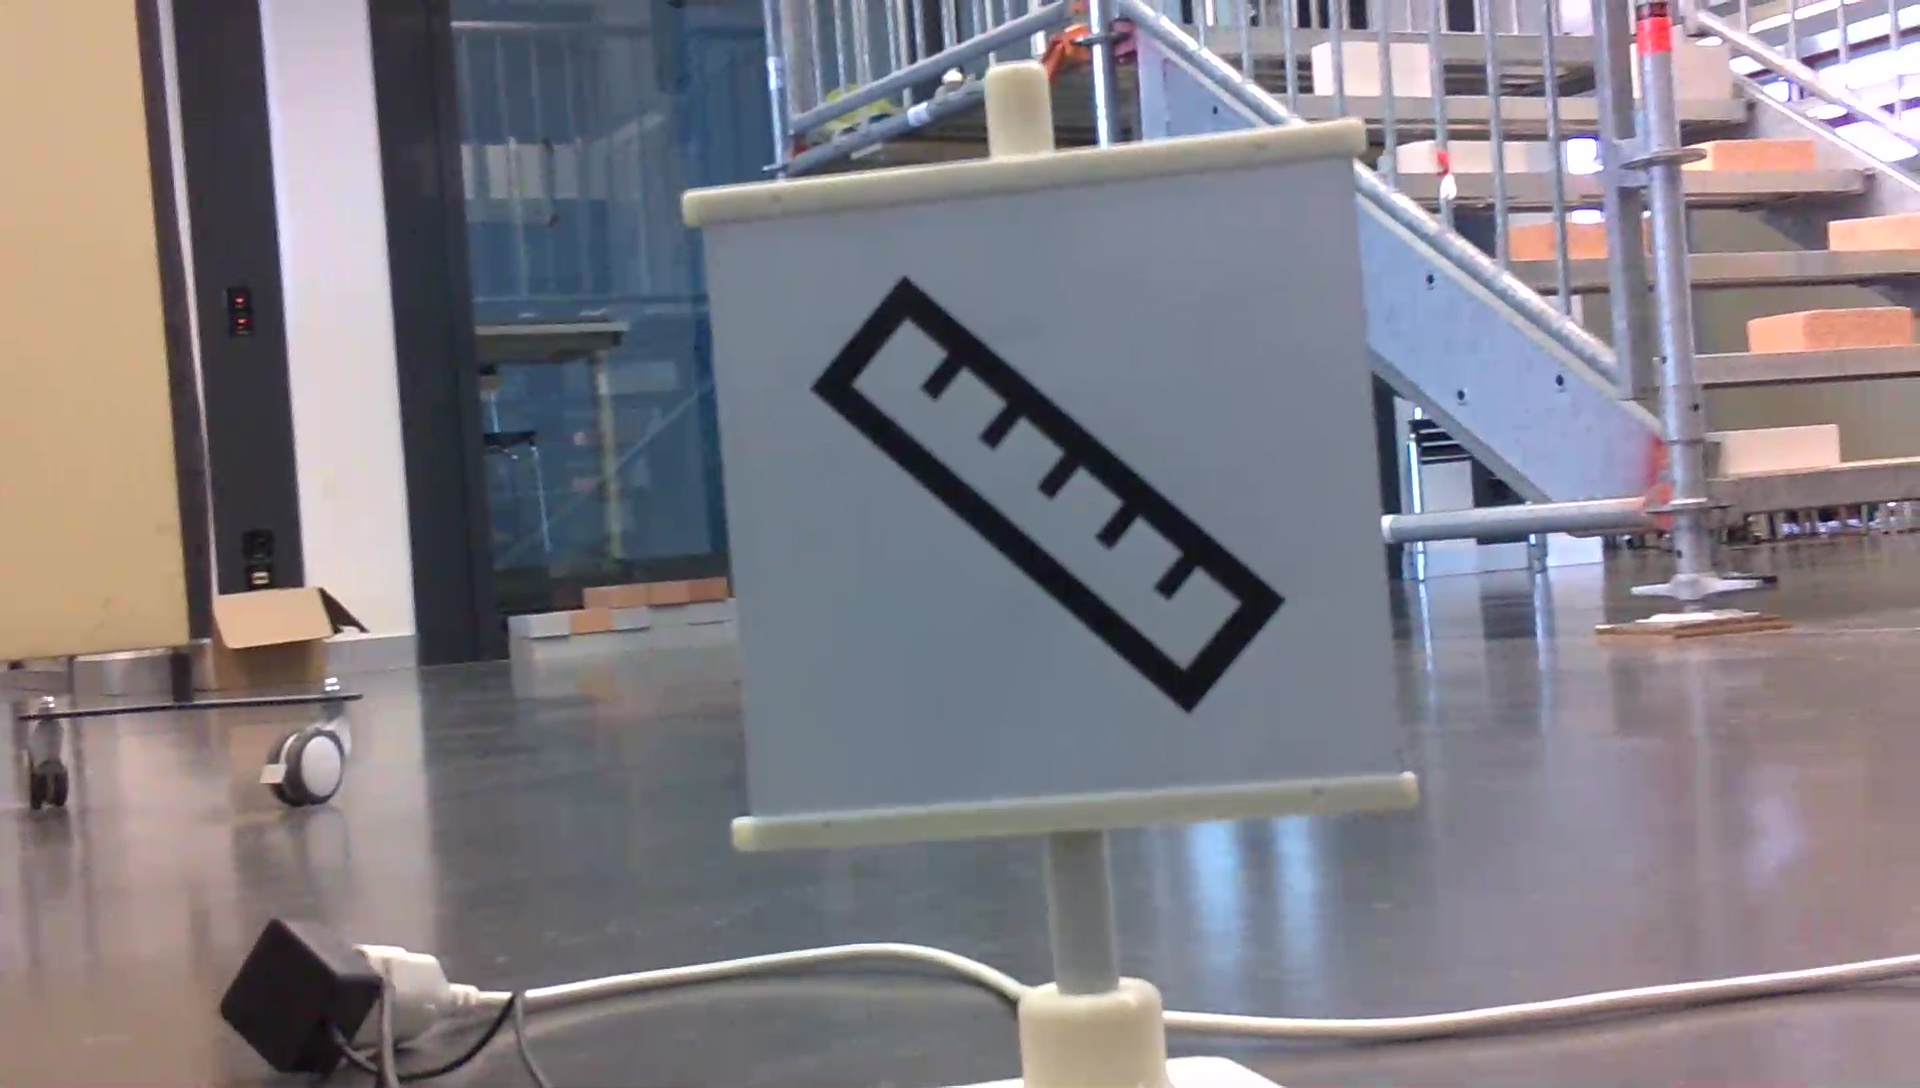brick: (1754, 295, 1908, 355), (1709, 419, 1838, 477), (1621, 38, 1727, 102), (1309, 41, 1429, 94), (1379, 135, 1520, 177), (1695, 128, 1816, 175), (1805, 210, 1920, 253), (1509, 216, 1604, 262)
ruler: (811, 260, 1299, 728)
